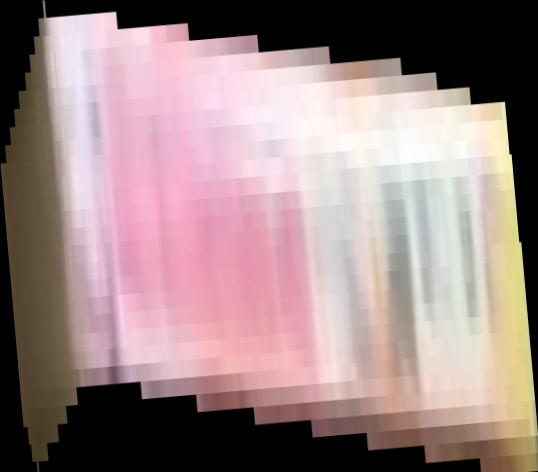flat: (1, 1, 538, 472)
